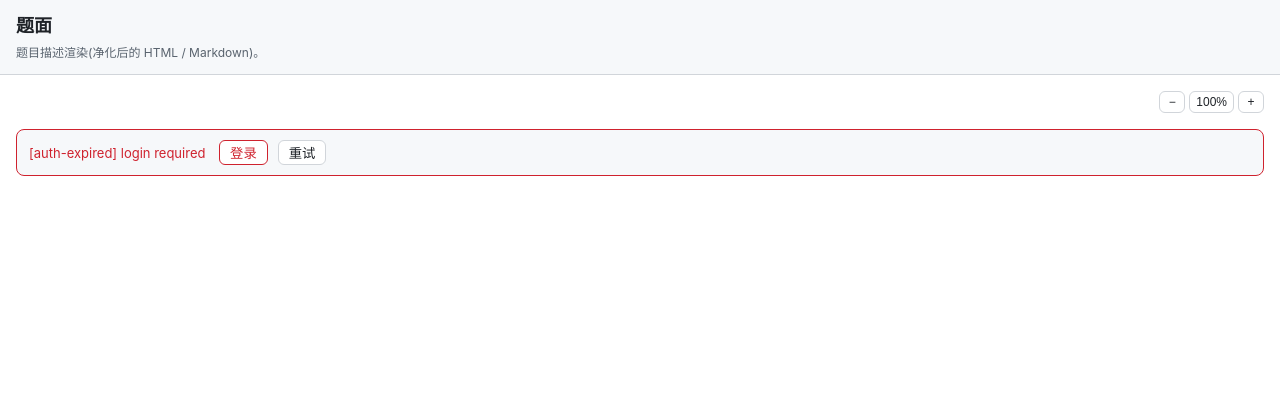
Scenario: problem-view page › shows error state and retry on endpoint failure
Expected: the message with class "state--error" shows "auth-expired", [29, 145, 209, 161]
Step 1. Click the button with class "state__retry" → (302, 152), box [278, 140, 326, 165]
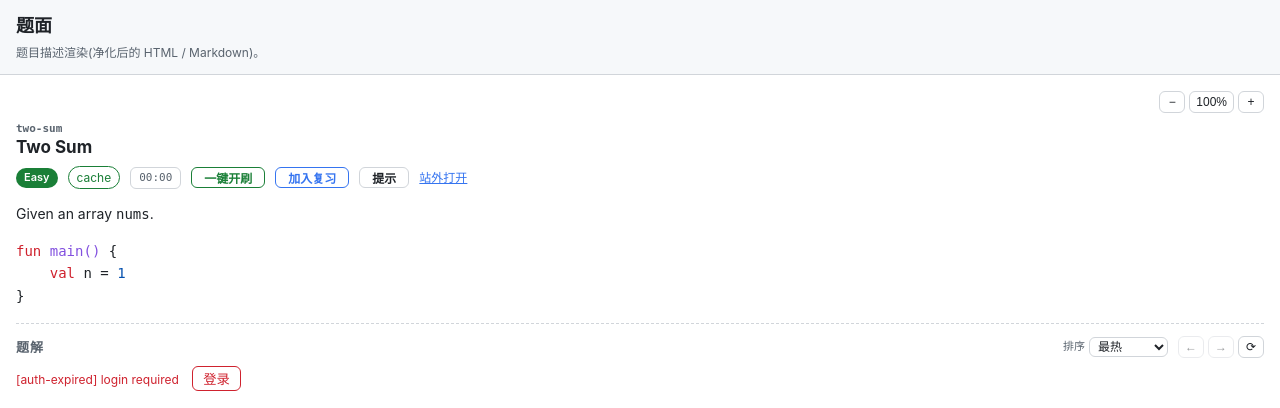
Expected: the element with class "statement" is shown, [16, 205, 154, 304]
